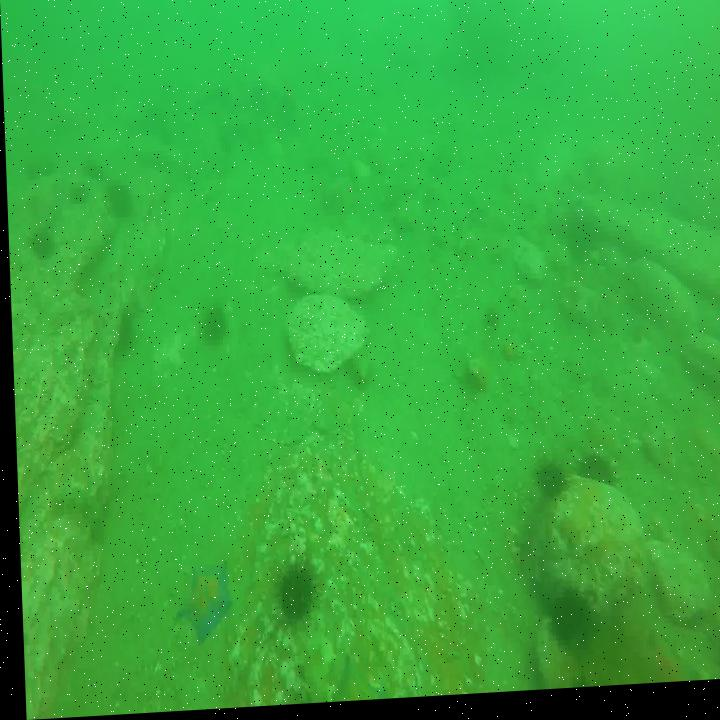echinus: (548, 587, 586, 651), (275, 568, 312, 625), (103, 175, 130, 224), (195, 312, 226, 351), (579, 465, 611, 502), (534, 463, 562, 502), (29, 226, 54, 263), (69, 181, 89, 210), (80, 160, 101, 186)
starfish: (173, 561, 228, 645), (622, 637, 695, 692)
